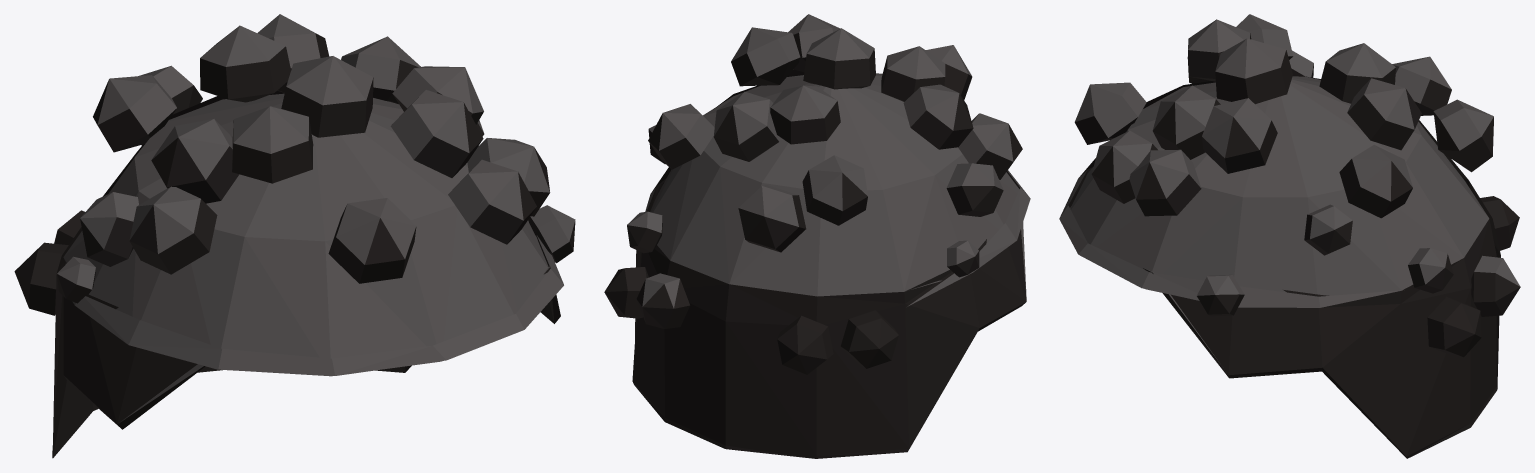
Rendered from hair_curly_01.glb.
The picture shows the model from 3 angles, left to right: view 1: azimuth 30°, elevation 25°; view 2: azimuth 150°, elevation 25°; view 3: azimuth 270°, elevation 25°; orthographic projection. The views are drawn at different scales.
Parts seen in each view (by area): view 1: hair_curly_01; view 2: hair_curly_01; view 3: hair_curly_01.
Part boxes in pixels (x1,y1,x2,y2): hair_curly_01: (14,14,575,458); hair_curly_01: (604,14,1030,458); hair_curly_01: (1059,14,1520,458).
Bounding box in the file's own units: 0.2689 × 0.2455 × 0.291.
Materials: 1 (1 with a texture image).
